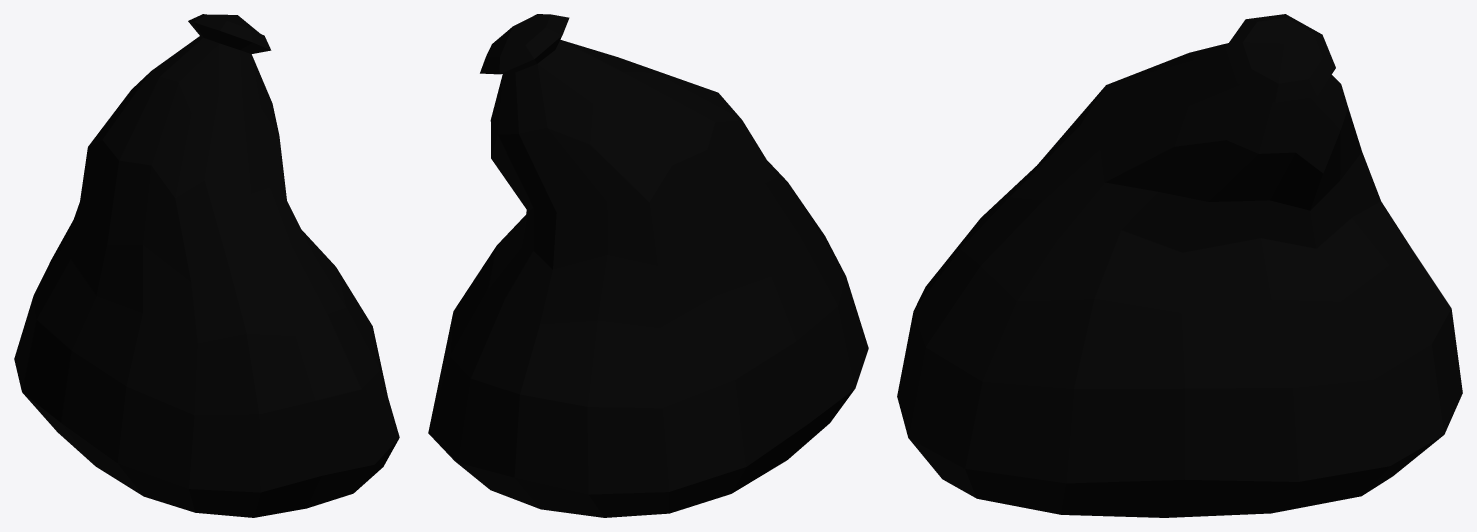
Rendered from sacPoubelle2.fbx.
3 views of the same model, side by side, from view 1: azimuth 30°, elevation 25°; view 2: azimuth 150°, elevation 25°; view 3: azimuth 270°, elevation 25° (orthographic). The views are drawn at different scales.
Parts seen in each view (by area): view 1: Cube.020; view 2: Cube.020; view 3: Cube.020.
Boxes of the visible parts, x1,y1,x2,y2 form: Cube.020: (14,14,399,517); Cube.020: (428,14,868,517); Cube.020: (897,14,1462,517).
Bounding box in the file's own units: 289 × 369 × 405.
1 material, 1 textured.
